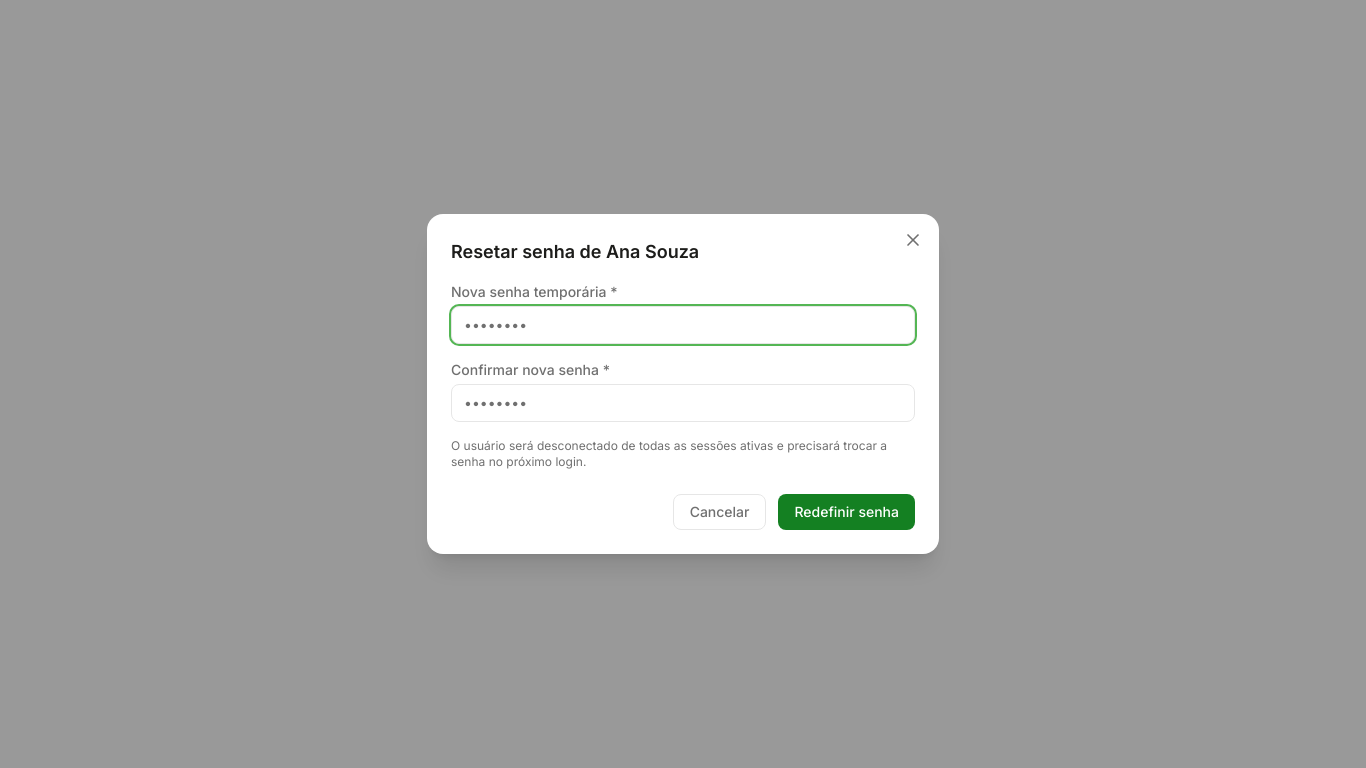
Test: ResetPasswordDialog › should reject a password shorter than six characters
Type "12345" into the password field labelled "Nova senha temporária *" at (683, 325), box [451,306,915,344]
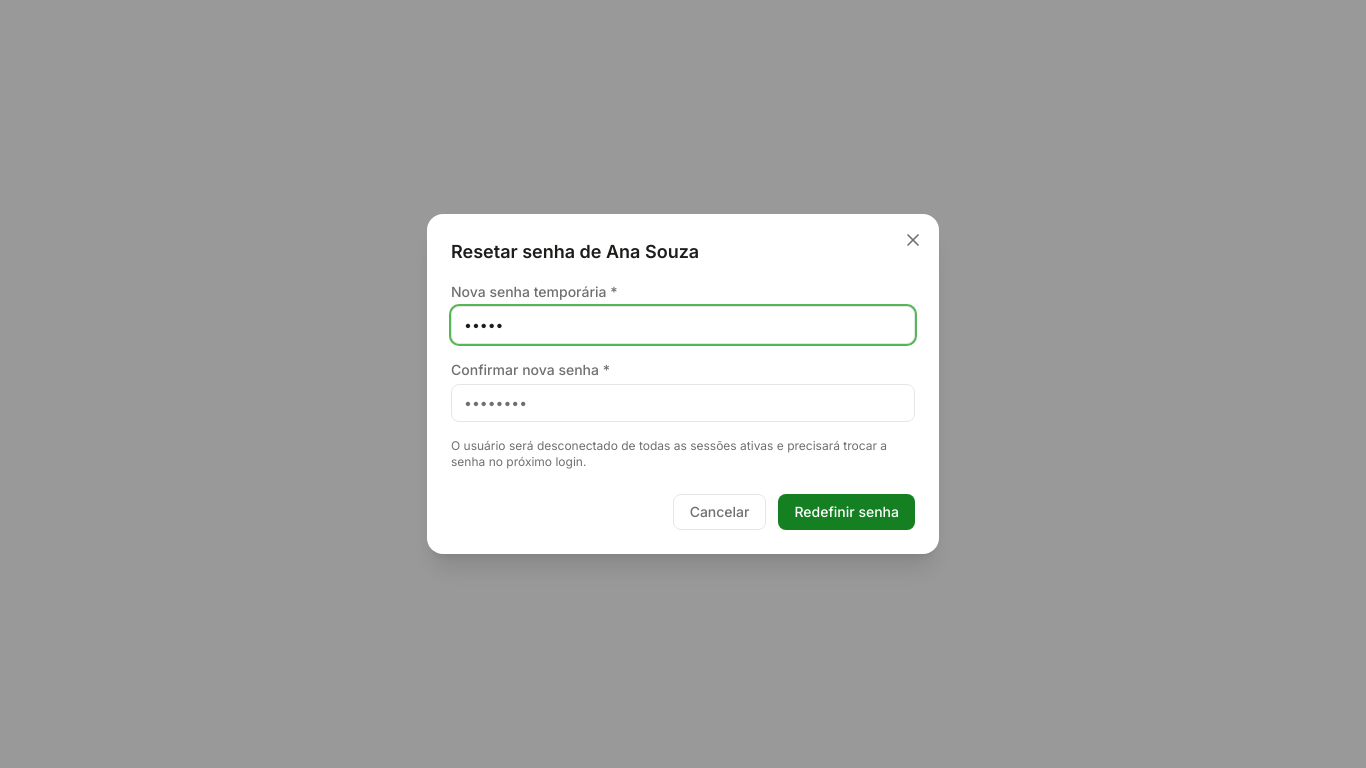
Type "12345" into the password field labelled "Confirmar nova senha *" at (683, 403), box [451,384,915,422]
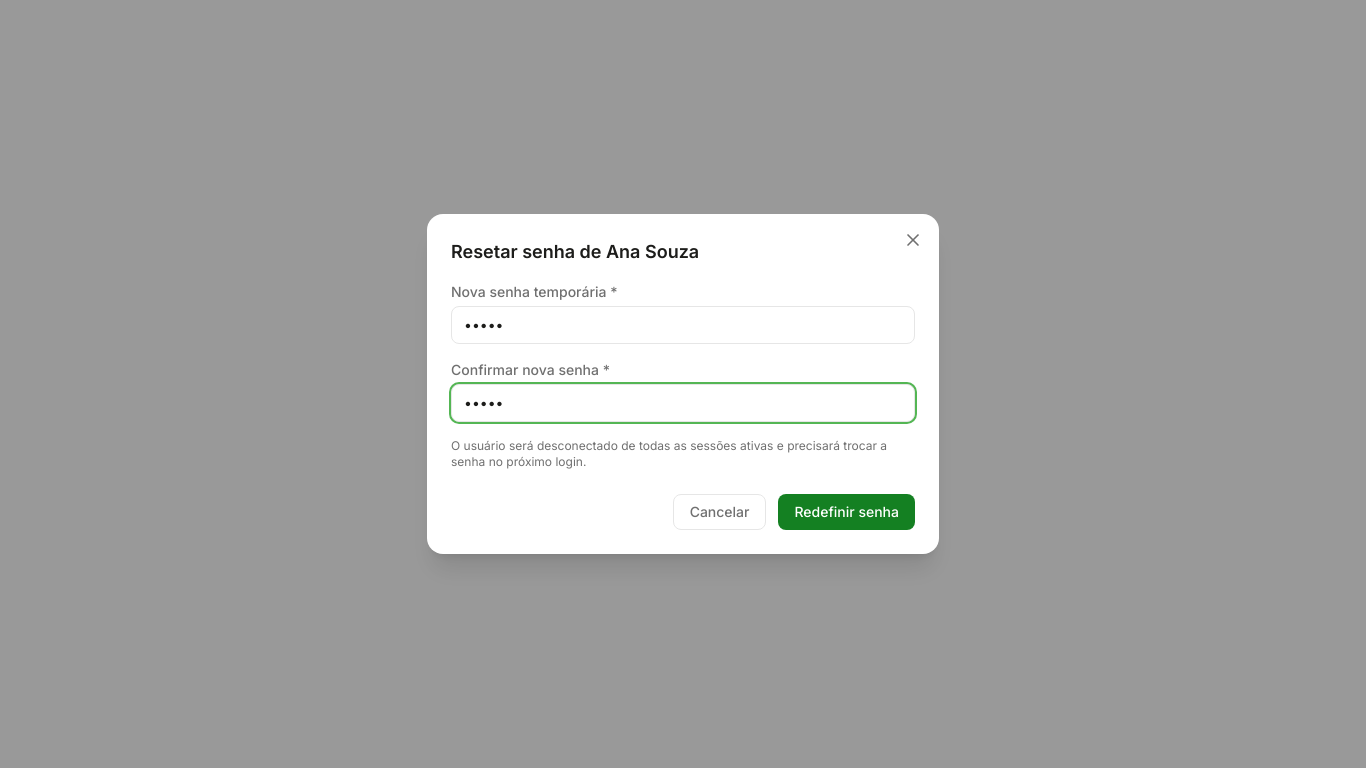
Click the button "Redefinir senha" at (847, 512), box [778,494,915,530]
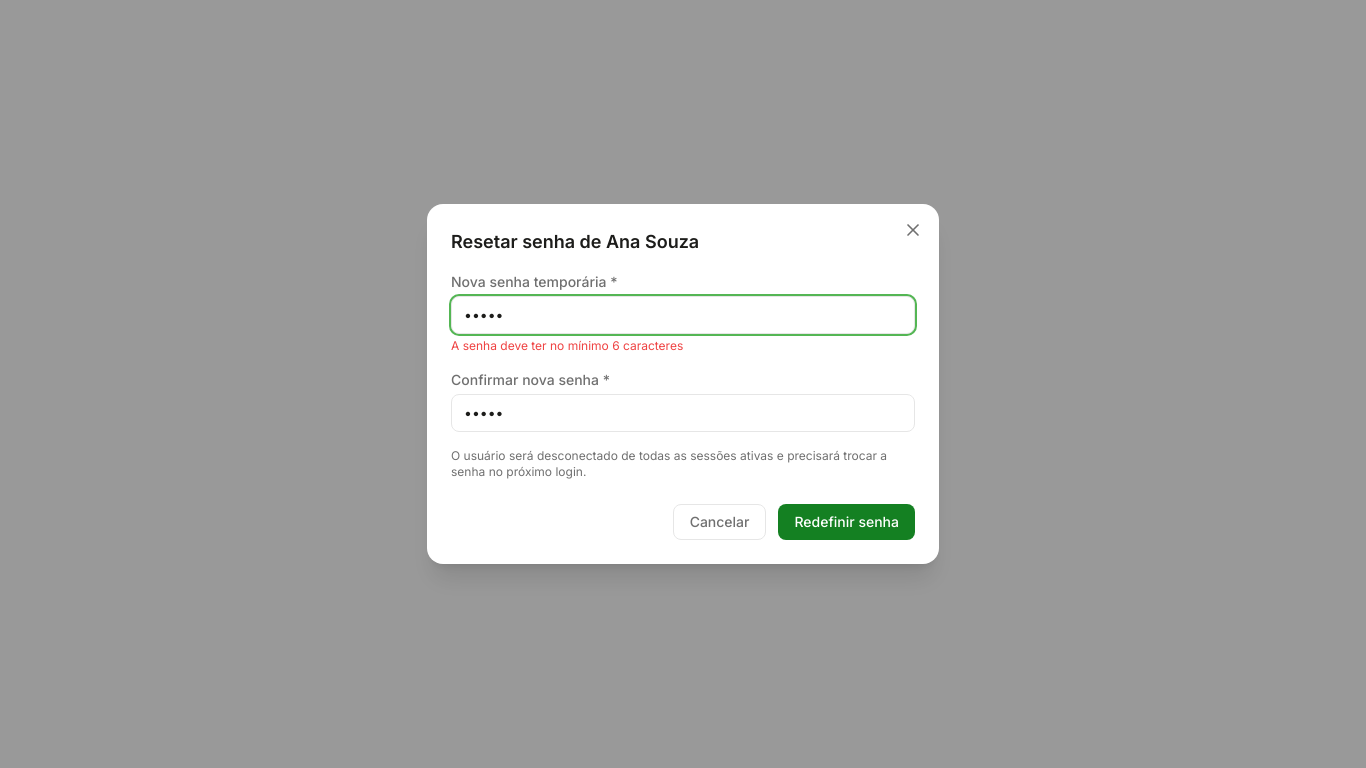
expect the text "A senha deve ter no mínimo 6 caracteres" is shown: met, box [451,338,683,353]
